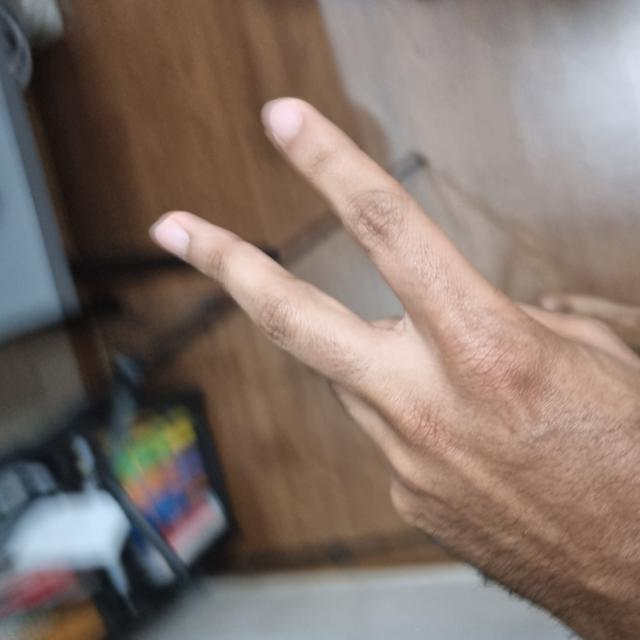Scissors: (0, 156, 537, 639)
